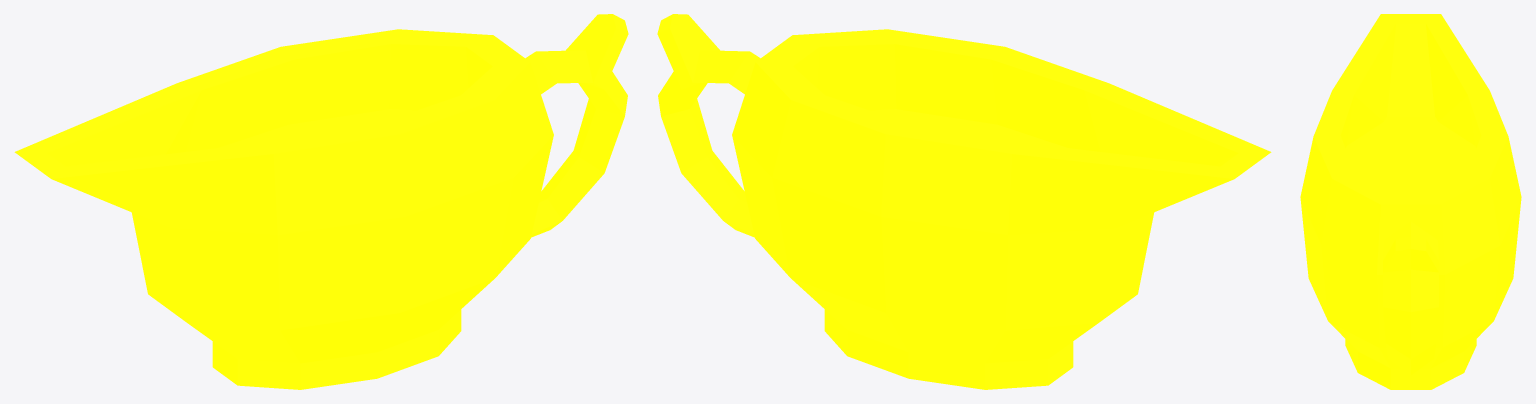
Rendered from gravy-boat-christmas-full.glb.
3 renders of one model, left to right at view 1: azimuth 30°, elevation 25°; view 2: azimuth 150°, elevation 25°; view 3: azimuth 270°, elevation 25°, orthographic. The views are drawn at different scales.
Visible parts, largest first — view 1: gravy_boat_christmas_full; view 2: gravy_boat_christmas_full; view 3: gravy_boat_christmas_full.
Boxes of the visible parts, left/top/right/bottom form: gravy_boat_christmas_full: left=14, top=14, right=628, bottom=389; gravy_boat_christmas_full: left=657, top=14, right=1271, bottom=389; gravy_boat_christmas_full: left=1300, top=14, right=1521, bottom=389.
Size of the model in its own units: 0.2324 by 0.1 by 0.0916.
Materials: 1 (1 with a texture image).
